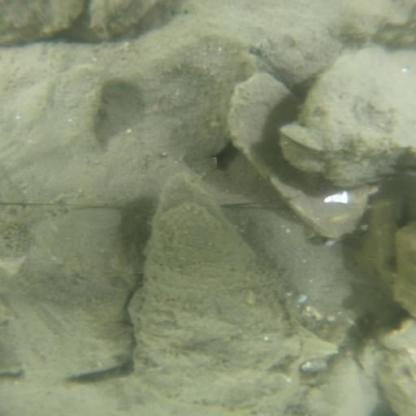Oyster- Indeterminate: (128, 176, 304, 414)
Oyster-Closed: (226, 71, 376, 241), (4, 212, 136, 376), (287, 46, 413, 186), (145, 4, 340, 81), (10, 64, 105, 152), (287, 355, 375, 416), (369, 323, 416, 416), (3, 1, 84, 45), (86, 0, 161, 40), (394, 223, 416, 319)
